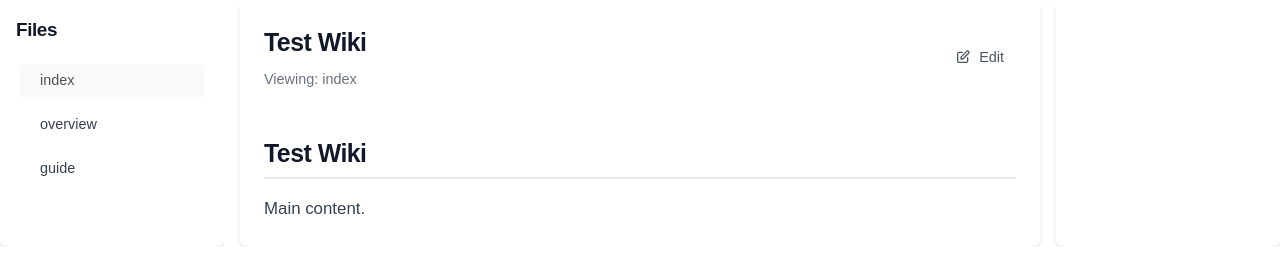
Scenario: WikiViewer › should navigate between files
The width and height of the screenshot is (1280, 264).
expect the text "Main content." is shown: met, box x1=264 y1=199 x2=365 y2=218
Note: Click on overview.md
Click the button "overview" at (112, 125), box x1=20 y1=108 x2=204 y2=142
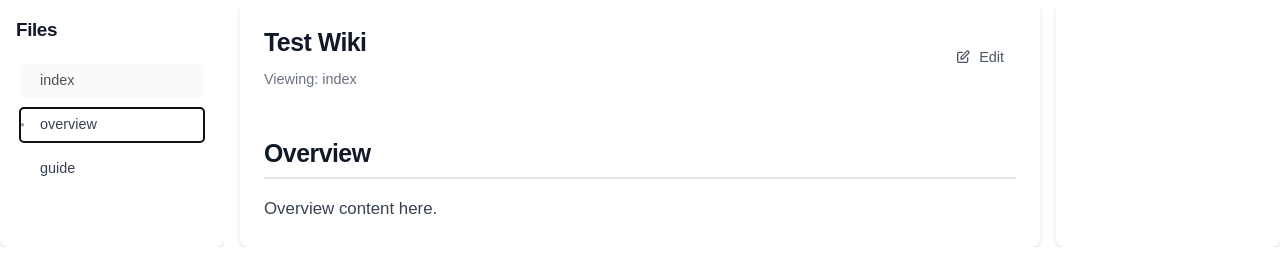
expect the text "Overview content here." is shown: met, box x1=264 y1=199 x2=437 y2=218
